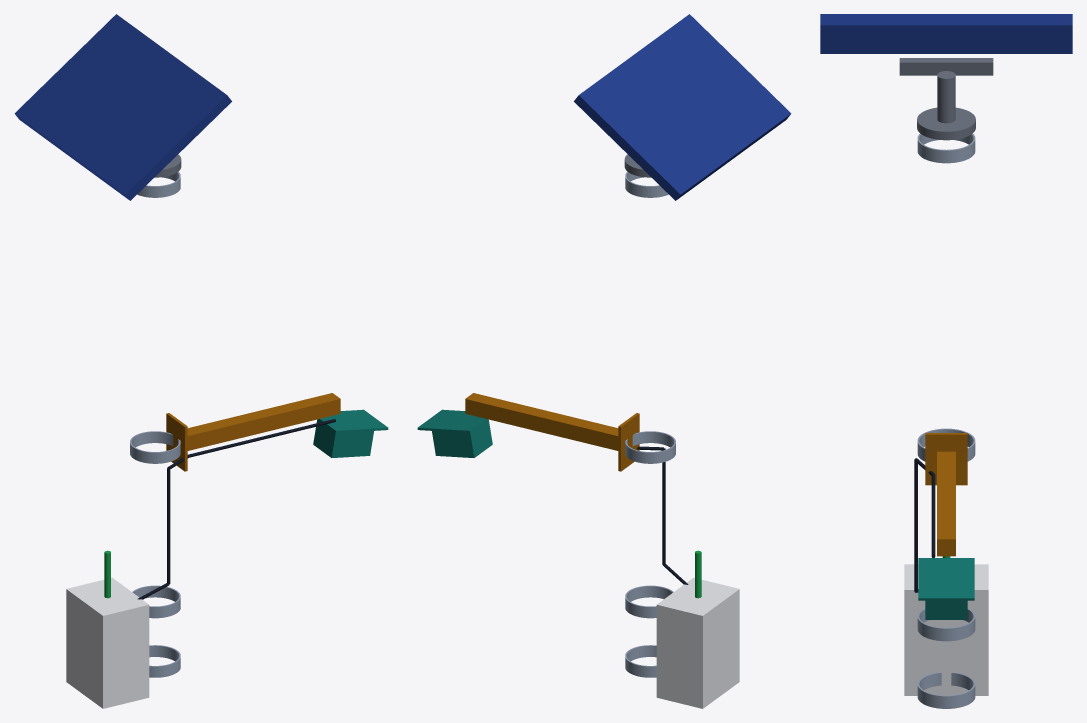
3 views of the same model, side by side, from view 1: azimuth 30°, elevation 25°; view 2: azimuth 150°, elevation 25°; view 3: azimuth 270°, elevation 25° (orthographic). The views are drawn at different scales.
Visible parts, largest first — view 1: Solar panel, 20 W, FieldNode enclosure, IP65, Sensor arm, aluminium, Stainless band clamps (4), Sensor head housing and sun hood, Sensor cable, M12; view 2: Solar panel, 20 W, FieldNode enclosure, IP65, Sensor arm, aluminium, Stainless band clamps (4), Sensor head housing and sun hood, Sensor cable, M12; view 3: Solar panel, 20 W, FieldNode enclosure, IP65, Stainless band clamps (4), Panel tilt bracket, Sensor arm, aluminium, Sensor head housing and sun hood, Sensor cable, M12.
Boxes of the visible parts, box(x1,y1,x2,y2) form: Solar panel, 20 W: box(14, 14, 231, 200); FieldNode enclosure, IP65: box(66, 577, 149, 708); Sensor arm, aluminium: box(166, 393, 340, 471); Stainless band clamps (4): box(130, 171, 180, 677); Sensor head housing and sun hood: box(313, 409, 388, 457); Sensor cable, M12: box(137, 419, 335, 599); Solar panel, 20 W: box(574, 14, 791, 200); FieldNode enclosure, IP65: box(656, 577, 739, 708); Sensor arm, aluminium: box(465, 393, 639, 471); Stainless band clamps (4): box(625, 171, 675, 677); Sensor head housing and sun hood: box(417, 409, 492, 457); Sensor cable, M12: box(637, 446, 688, 584); Solar panel, 20 W: box(820, 14, 1072, 53); FieldNode enclosure, IP65: box(904, 564, 988, 695); Stainless band clamps (4): box(917, 133, 975, 708); Panel tilt bracket: box(899, 58, 993, 140); Sensor arm, aluminium: box(925, 433, 967, 556); Sensor head housing and sun hood: box(918, 558, 974, 619); Sensor cable, M12: box(914, 458, 935, 592).
Size of the model in its own units: 0.8617 by 1.67 by 0.54.
